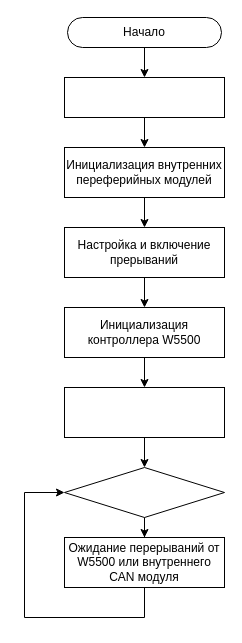
Some shapes in this 242 by 643 pixel diagram are drawn without their labels. Here are the shapes that lost their labels. From the top down, the centre of each, then its label:
the point at 144,97: Инициализация встроенных тактовых генераторов
the point at 144,412: Настройка входящих CAN фильтров
the point at 144,492: while(true)
